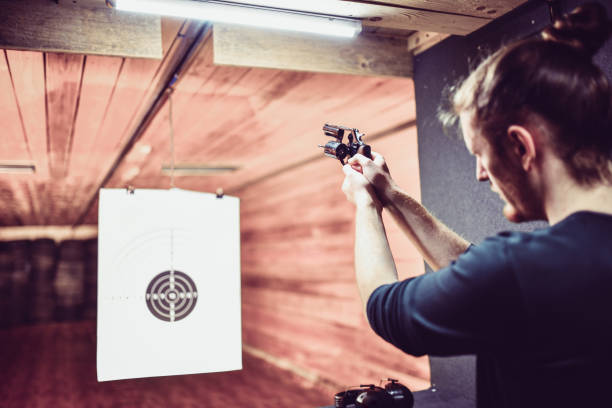gun: (321, 122, 372, 161)
